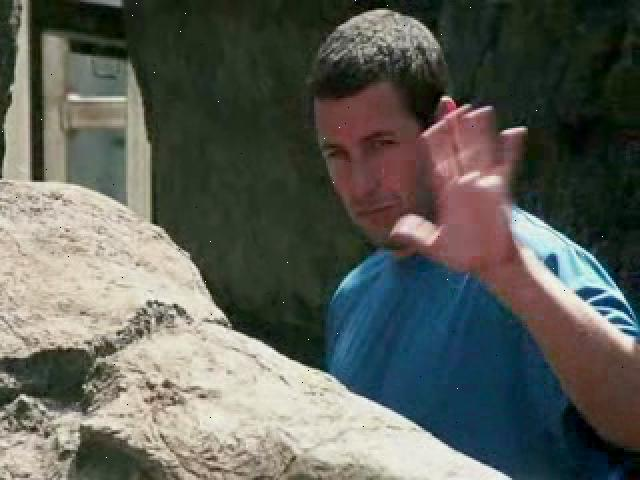L: (307, 8, 640, 476)
